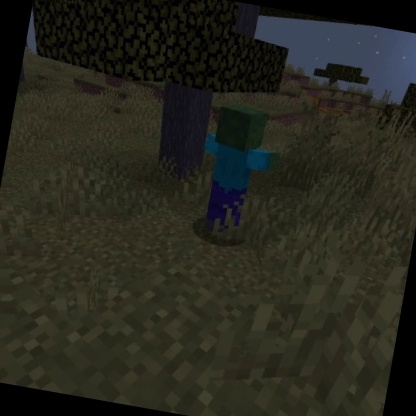zombie: (184, 97, 292, 251)
